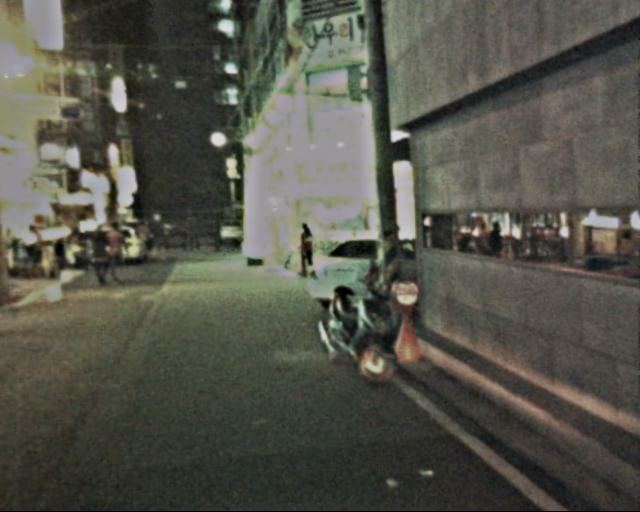person: (88, 223, 116, 286), (103, 222, 130, 287), (293, 224, 317, 281), (178, 209, 200, 255), (149, 213, 169, 259), (130, 218, 149, 258), (205, 214, 223, 252)
